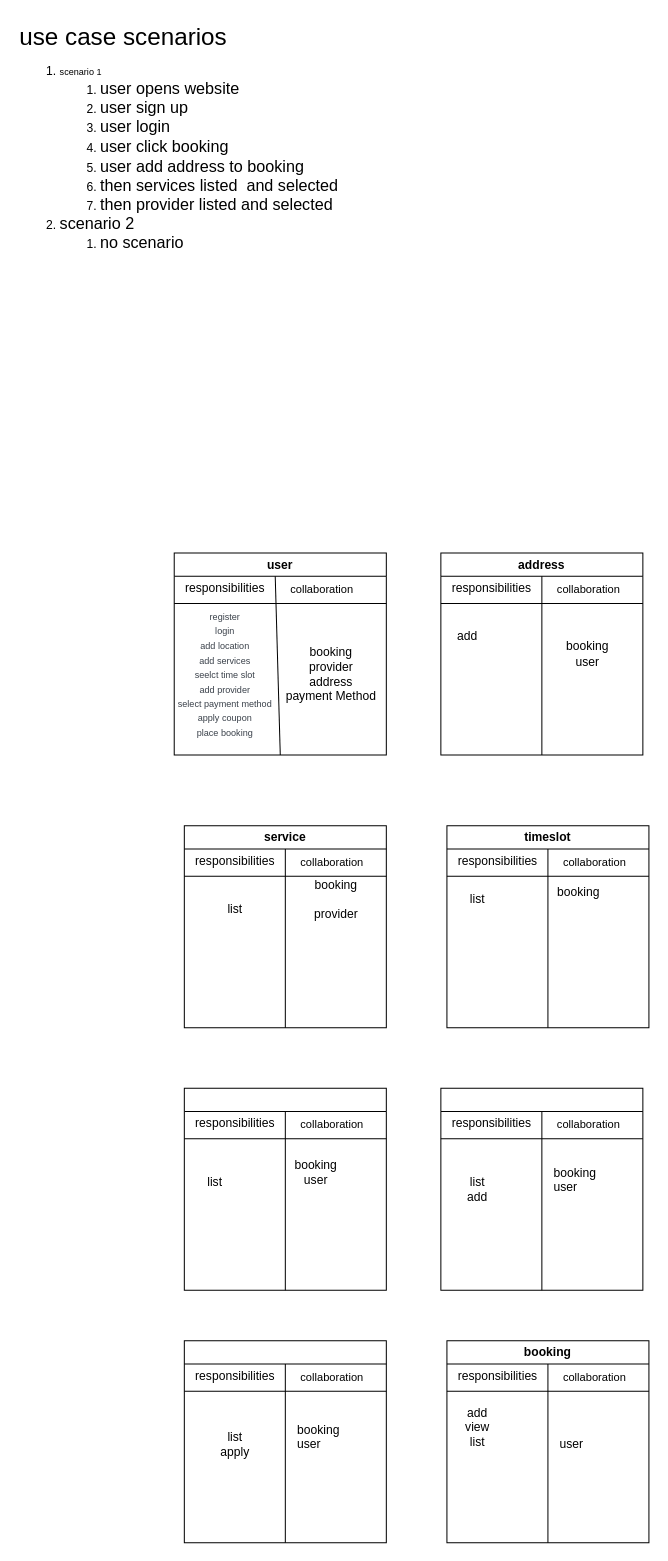
Some shapes in this 668 by 1561 pixel diagram are drawn without their labels. The shapes that lost their labels are listed below. From the top down, each one's box as (x1, y1, x2, y2) in pixels, then its label:
(183, 1087, 386, 1290): provider
(440, 1087, 643, 1290): payment method
(183, 1340, 386, 1543): coupon
